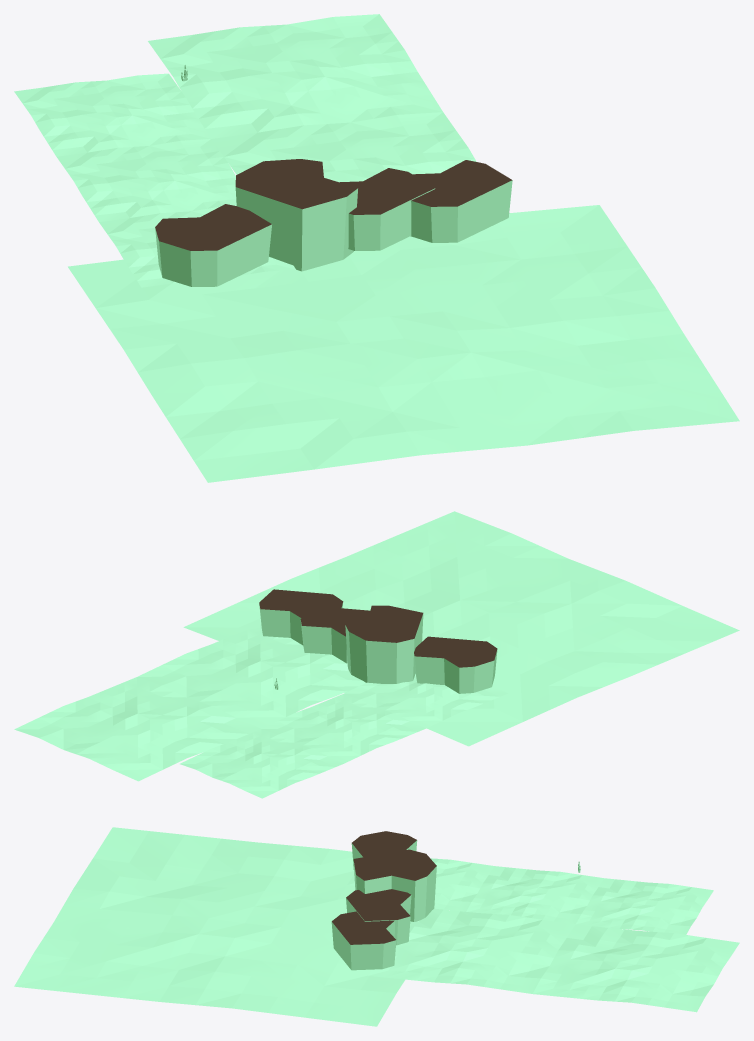
3 renders of one model, top to bottom at view 1: azimuth 30°, elevation 25°; view 2: azimuth 150°, elevation 25°; view 3: azimuth 270°, elevation 25°, orthographic. The views are drawn at different scales.
Parts seen in each view (by area): view 1: -mesh; view 2: -mesh; view 3: -mesh.
Boxes of the visible parts, x1,y1,x2,y2 form: -mesh: (14, 14, 739, 482); -mesh: (14, 511, 739, 798); -mesh: (14, 827, 739, 1026).
Bounding box in the file's own units: 33.69 × 5.6 × 51.23.
